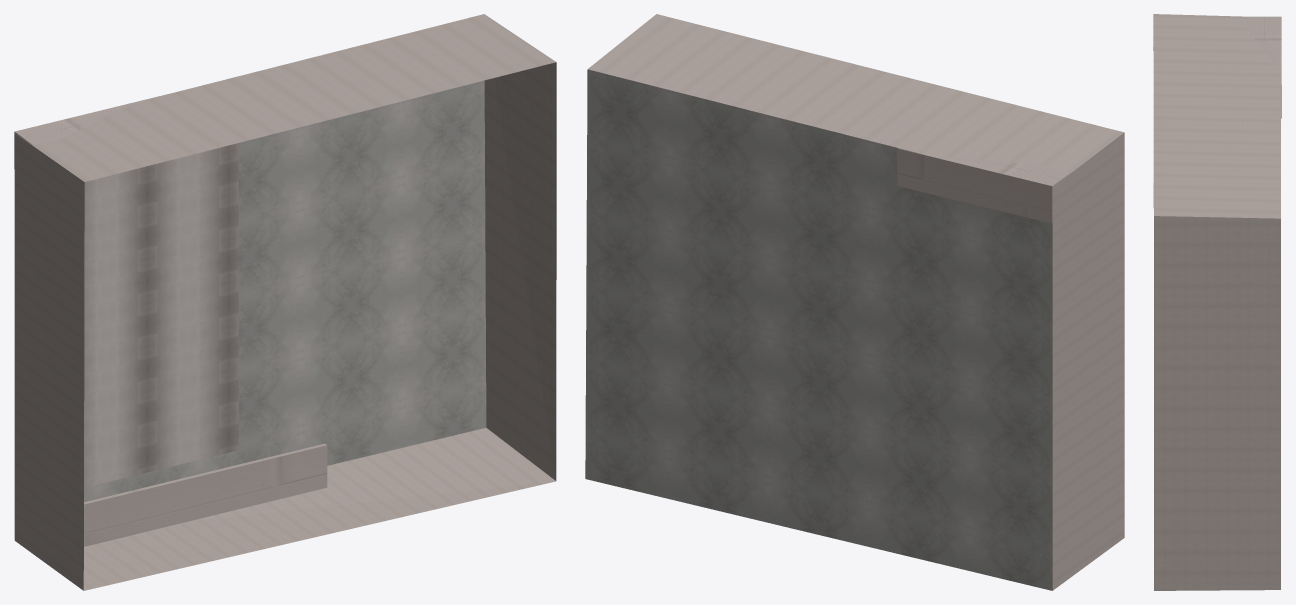
The model's file is rm3038_pt_cloud.obj.
3 views of the same model, side by side, from view 1: azimuth 30°, elevation 25°; view 2: azimuth 150°, elevation 25°; view 3: azimuth 270°, elevation 25° (orthographic). The views are drawn at different scales.
Parts seen in each view (by area): view 1: Plane; view 2: Plane; view 3: Plane.
Boxes of the visible parts, left/top/right/bottom form: Plane: left=14, top=14, right=556, bottom=590; Plane: left=585, top=14, right=1124, bottom=590; Plane: left=1153, top=14, right=1281, bottom=590.
Size of the model in its own units: 10.25 by 8.67 by 2.69.
4 materials, 3 textured.
